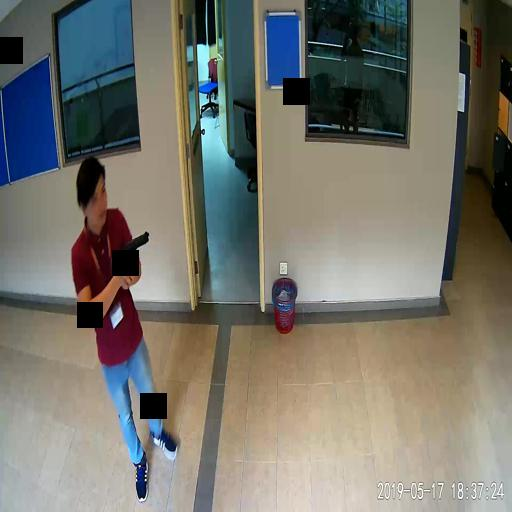Handgun: (118, 230, 148, 281)
